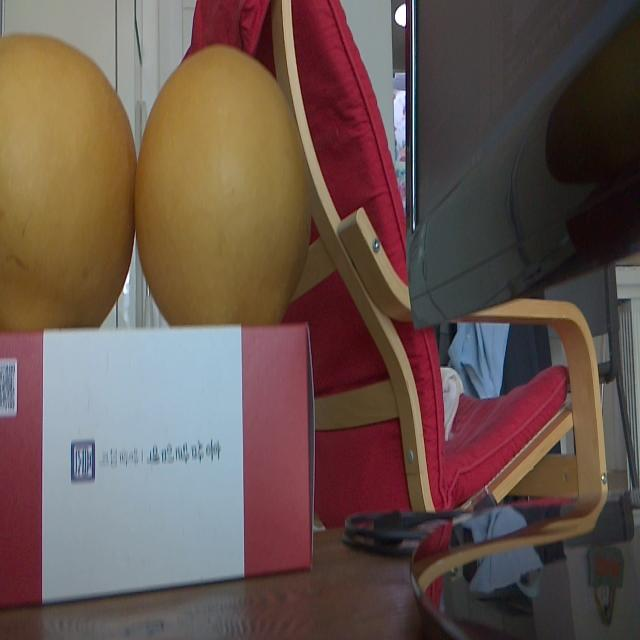pear: (136, 45, 310, 327), (0, 30, 136, 330)
